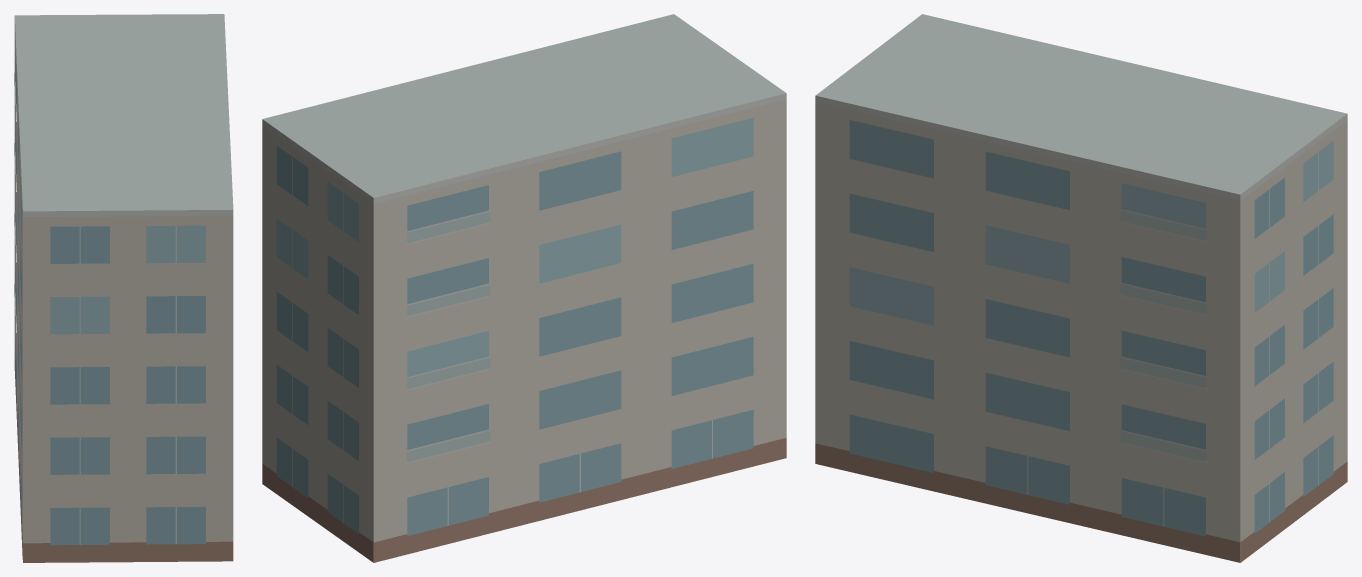
File: survey-upis-32997966.glb
The picture shows the model from 3 angles, left to right: view 1: azimuth 30°, elevation 25°; view 2: azimuth 150°, elevation 25°; view 3: azimuth 270°, elevation 25°; orthographic projection. The views are drawn at different scales.
Parts seen in each view (by area): view 1: survey-upis-32997966.tmp; view 2: survey-upis-32997966.tmp; view 3: survey-upis-32997966.tmp.
Part boxes in pixels (box(x1,y1,x2,y2)): survey-upis-32997966.tmp: box(14, 14, 233, 562); survey-upis-32997966.tmp: box(262, 14, 786, 562); survey-upis-32997966.tmp: box(815, 14, 1347, 562).
Bounding box in the file's own units: 15.58 × 14.8 × 19.39.
